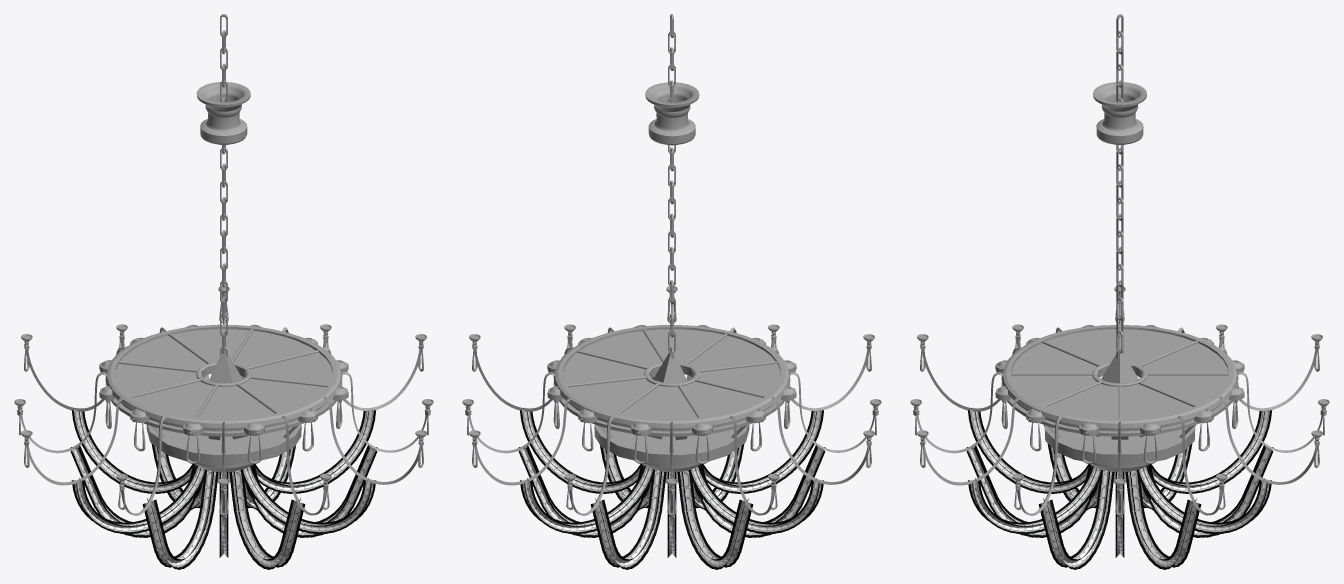
The model's file is SM_Chandlerfromfriend.fbx.
3 renders of one model, left to right at view 1: azimuth 30°, elevation 25°; view 2: azimuth 150°, elevation 25°; view 3: azimuth 270°, elevation 25°, orthographic.
Visible parts, largest first — view 1: Fluorish, MeshTop, MetalBase, Topper, MetalCups, CenterChain; view 2: Fluorish, MeshTop, MetalBase, Topper, MetalCups, CenterChain; view 3: Fluorish, MeshTop, MetalBase, Topper, CenterChain, MetalCups.
Part boxes in pixels (<box>): Fluorish: <box>14,286,433,569</box>; MeshTop: <box>115,329,332,418</box>; MetalBase: <box>105,324,342,482</box>; Topper: <box>196,82,250,145</box>; MetalCups: <box>99,324,348,435</box>; CenterChain: <box>220,14,227,357</box>; Fluorish: <box>462,286,881,569</box>; MeshTop: <box>563,329,780,418</box>; MetalBase: <box>553,325,790,482</box>; Topper: <box>645,82,699,145</box>; MetalCups: <box>547,325,796,435</box>; CenterChain: <box>668,14,675,358</box>; Fluorish: <box>910,287,1329,569</box>; MeshTop: <box>1011,329,1228,418</box>; MetalBase: <box>1001,325,1238,482</box>; Topper: <box>1093,82,1146,145</box>; CenterChain: <box>1116,14,1123,358</box>; MetalCups: <box>995,325,1244,435</box>.
Bounding box in the file's own units: 973 × 1198 × 873.
Materials: 2 (1 with a texture image).
